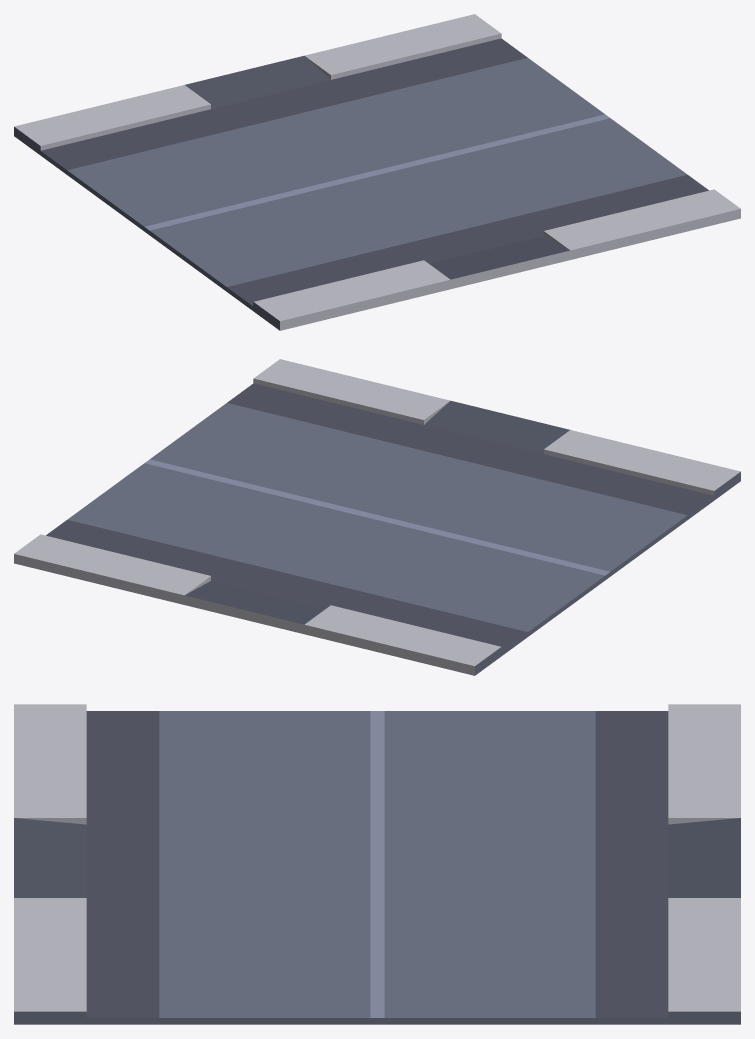
Rendered from Road Driveway Double.glb.
The picture shows the model from 3 angles, top to bottom: view 1: azimuth 30°, elevation 25°; view 2: azimuth 150°, elevation 25°; view 3: azimuth 270°, elevation 25°; orthographic projection. The views are drawn at different scales.
Visible parts, largest first — view 1: road_drivewayDouble; view 2: road_drivewayDouble; view 3: road_drivewayDouble.
Boxes of the visible parts, x1,y1,x2,y2 form: road_drivewayDouble: (14, 14, 740, 330); road_drivewayDouble: (14, 359, 740, 675); road_drivewayDouble: (14, 704, 740, 1024).
Bounding box in the file's own units: 1 × 0.02 × 1.
